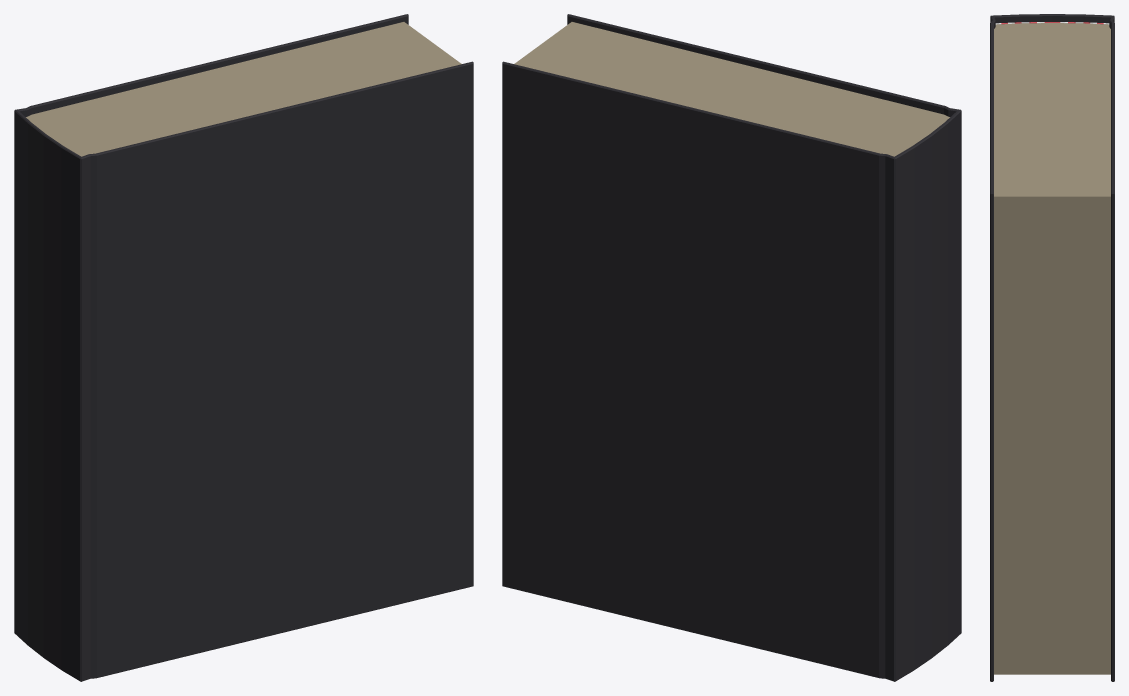
File: Book-1-Textbook.fbx
3 renders of one model, left to right at view 1: azimuth 30°, elevation 25°; view 2: azimuth 150°, elevation 25°; view 3: azimuth 270°, elevation 25°, orthographic. The views are drawn at different scales.
Parts seen in each view (by area): view 1: Book1Textbook; view 2: Book1Textbook; view 3: Book1Textbook.
Part boxes in pixels (x1,y1,x2,y2): Book1Textbook: (14,14,473,681); Book1Textbook: (502,14,961,681); Book1Textbook: (990,14,1114,681).
Size of the model in its own units: 0.222 by 0.28 by 0.065.
